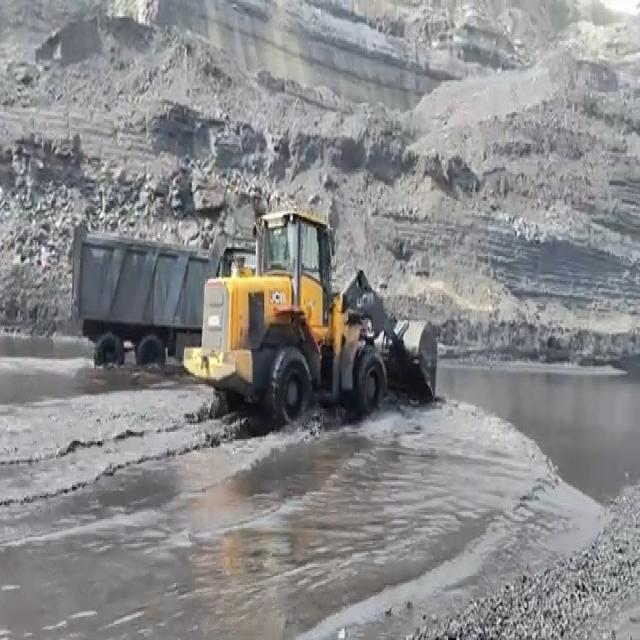buldozerpayloadergrader: (200, 210, 439, 423)
dump_truck: (63, 228, 202, 370)
